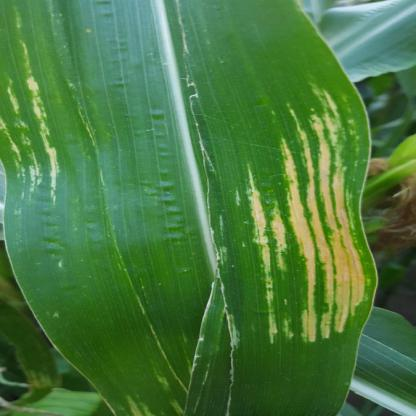corn leaf blight: (17, 1, 380, 416)
